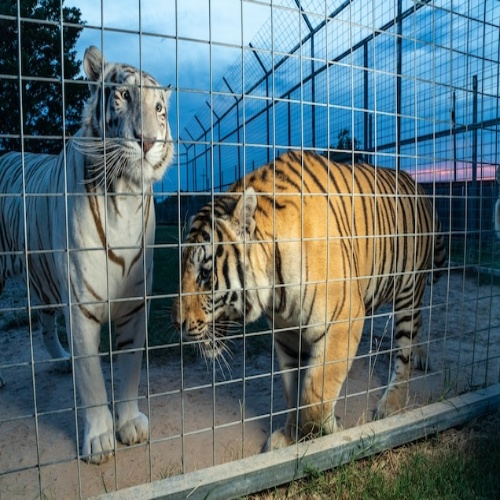tiger: (48, 66, 391, 432)
